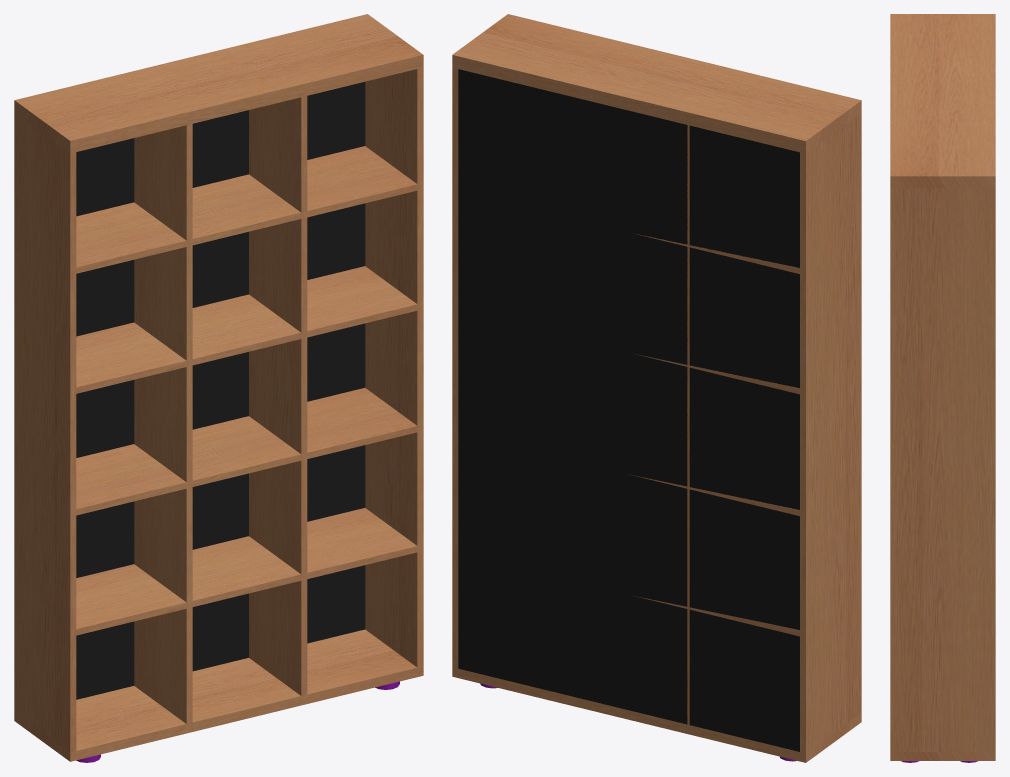
File: Pigeon_hole_shelf.glb
3 views of the same model, side by side, from view 1: azimuth 30°, elevation 25°; view 2: azimuth 150°, elevation 25°; view 3: azimuth 270°, elevation 25° (orthographic). The views are drawn at different scales.
Parts seen in each view (by area): view 1: Asset3DLoader.sceneRoot; view 2: Asset3DLoader.sceneRoot; view 3: Asset3DLoader.sceneRoot.
Part boxes in pixels (x1,y1,x2,y2): Asset3DLoader.sceneRoot: [14, 14, 423, 762]; Asset3DLoader.sceneRoot: [452, 14, 861, 762]; Asset3DLoader.sceneRoot: [890, 14, 995, 762].
Size of the model in its own units: 117 by 199 by 32.
Materials: 3 (1 with a texture image).
